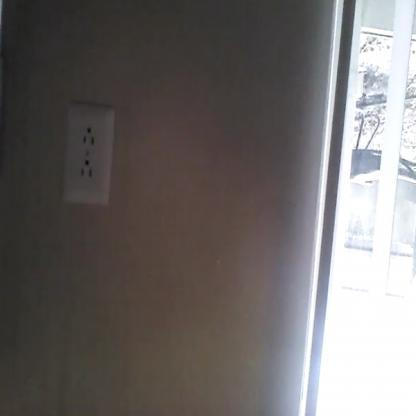OUTLET: (60, 104, 115, 209)
